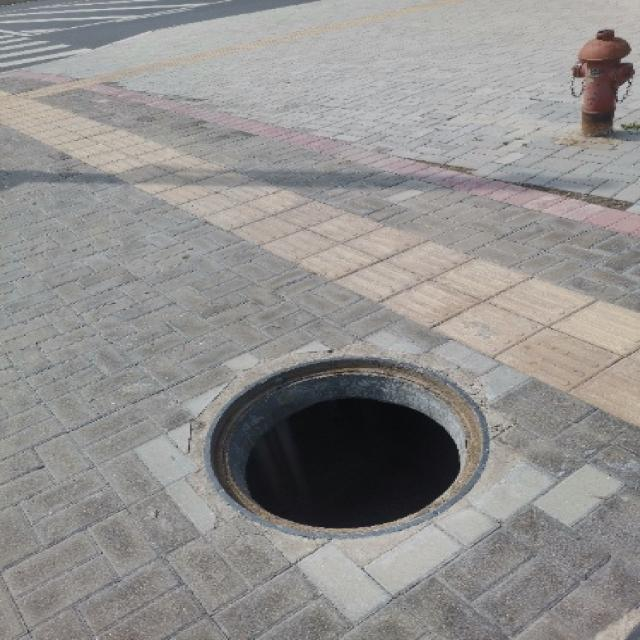Uncovered: (182, 338, 532, 556)
